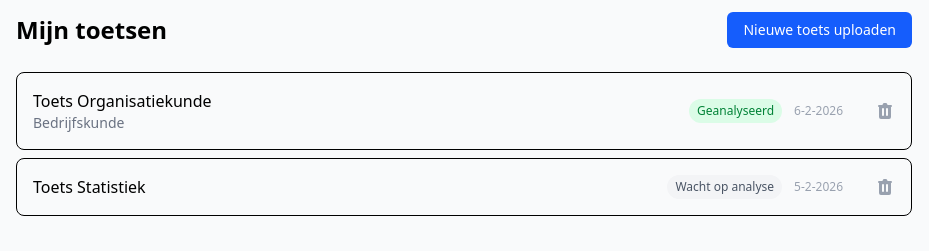
Test: Home — exam deletion › T12.3: clicking cancel closes the confirmation dialog
The width and height of the screenshot is (929, 251).
Expected: the text "Toets Organisatiekunde" is shown, left=33, top=89, right=212, bottom=113
Step 1. Click the button titled "Toets verwijderen" → [885, 111], box left=859, top=85, right=911, bottom=137
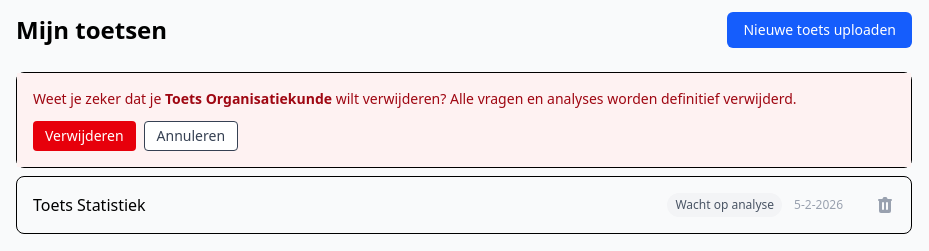
Result: the text "Weet je zeker" is shown at left=33, top=89, right=165, bottom=108
Step 2. Click the button "Annuleren" → [191, 136], box left=144, top=121, right=238, bottom=151
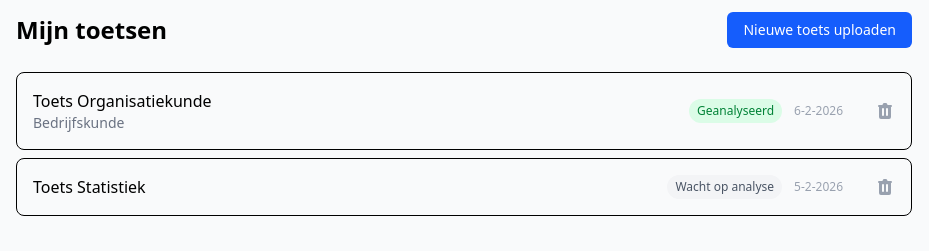
Result: the text "Weet je zeker" is gone
